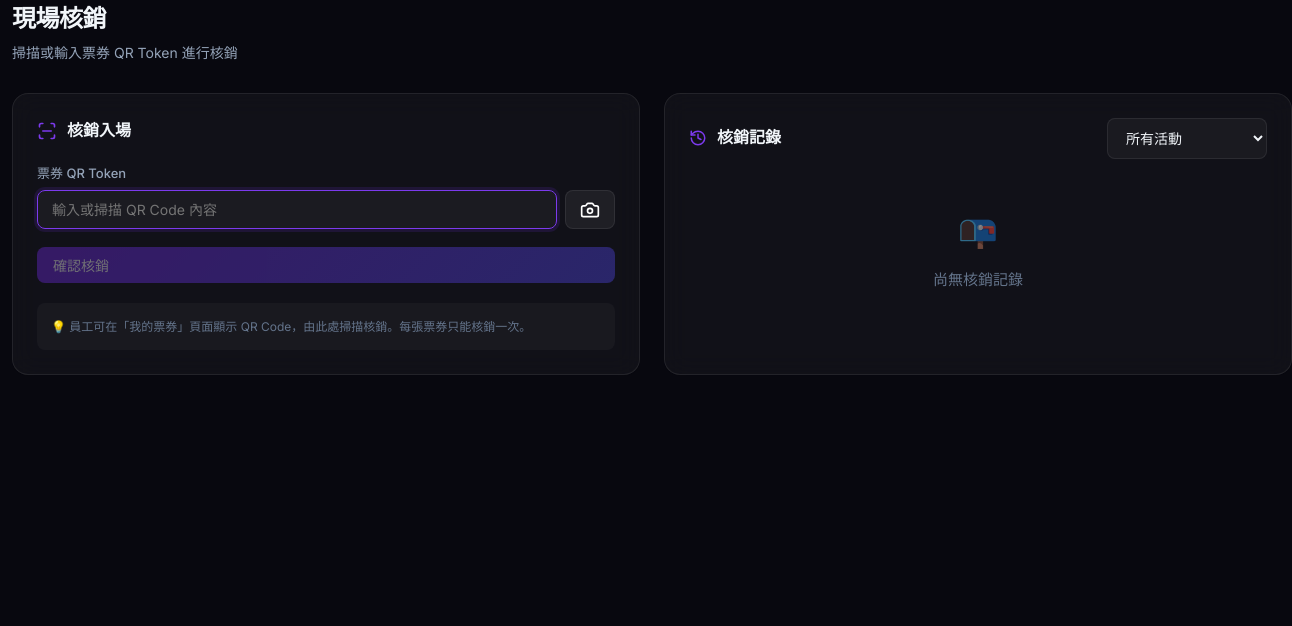
CheckIn › 核銷成功但票券關聯資料缺漏時會顯示 fallback
In the field with placeholder "輸入或掃描 QR Code 內容": point(297, 210) [37,190,557,229], type "QR-TOKEN-MISSING-RELATIONS"
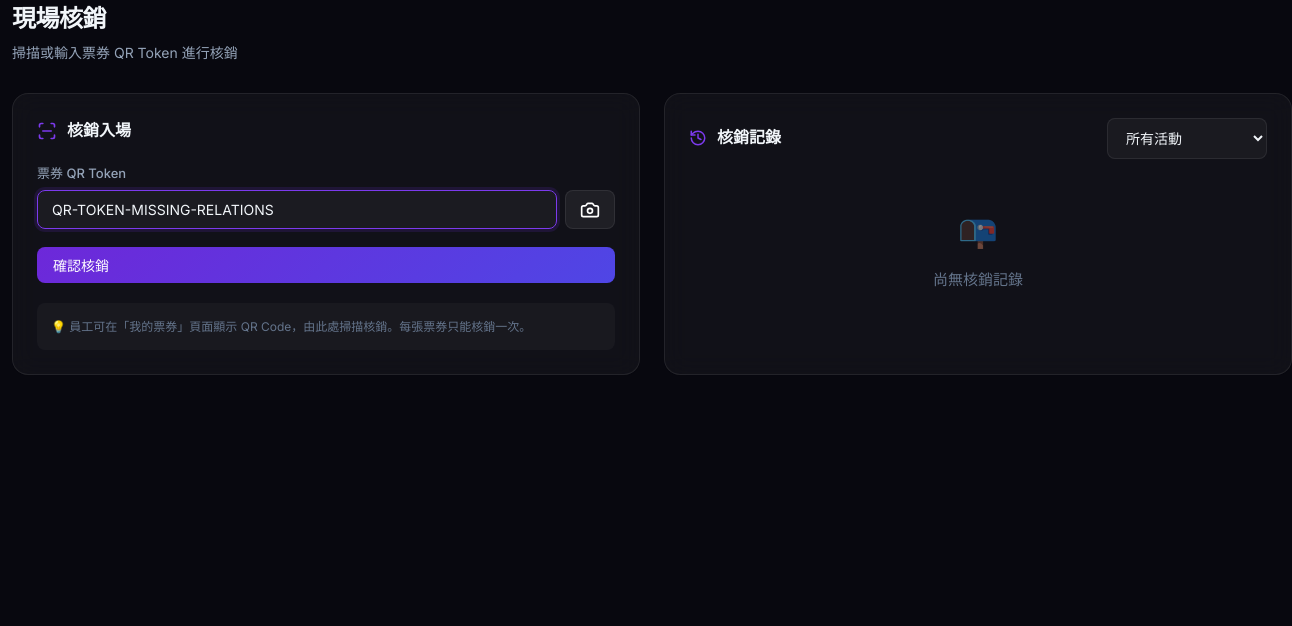
Click the button "確認核銷": point(81, 266) [37,247,615,283]
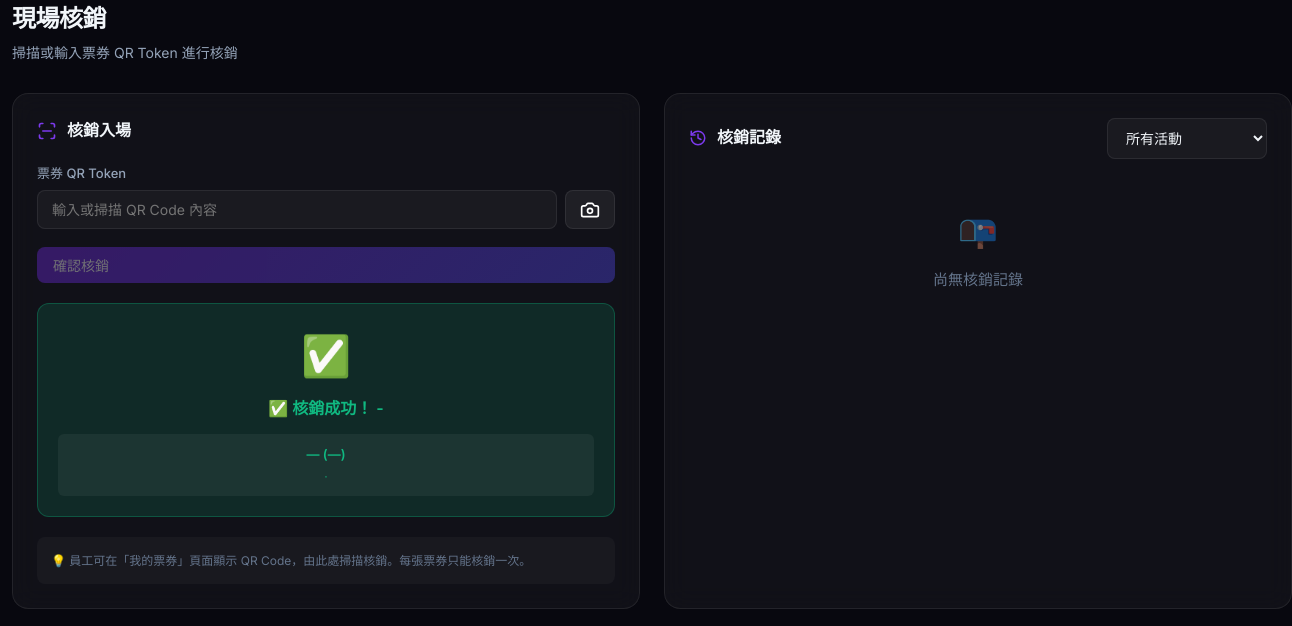
Result: the text "✅ 核銷成功！ -" is shown at [268,398,384,418]
Result: the text "— (—)" is shown at [306,446,346,462]
